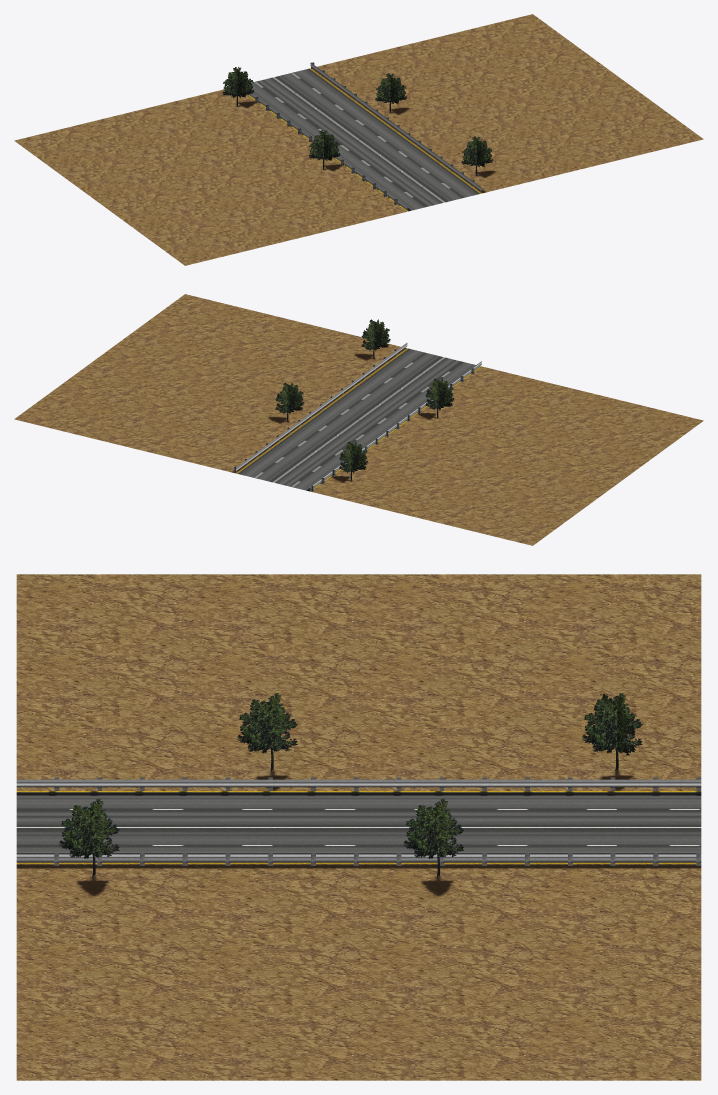
3 views of the same model, one above another, from view 1: azimuth 30°, elevation 25°; view 2: azimuth 150°, elevation 25°; view 3: azimuth 270°, elevation 25° (orthographic). The views are drawn at different scales.
Parts seen in each view (by area): view 1: scene3, road003, tree3, relling003; view 2: scene3, road003, tree3, relling003; view 3: scene3, road003, relling003, tree3.
Boxes of the visible parts, bbox=[...] form: scene3: bbox=[14, 14, 703, 265]; road003: bbox=[247, 68, 481, 211]; tree3: bbox=[222, 67, 493, 175]; relling003: bbox=[245, 62, 481, 209]; scene3: bbox=[14, 294, 703, 545]; road003: bbox=[236, 348, 481, 491]; tree3: bbox=[275, 319, 454, 481]; relling003: bbox=[234, 343, 481, 491]; scene3: bbox=[16, 574, 701, 1080]; road003: bbox=[16, 791, 701, 863]; relling003: bbox=[16, 777, 701, 865]; tree3: bbox=[59, 693, 642, 877].
Size of the model in its own units: 140 by 10.37 by 80.
